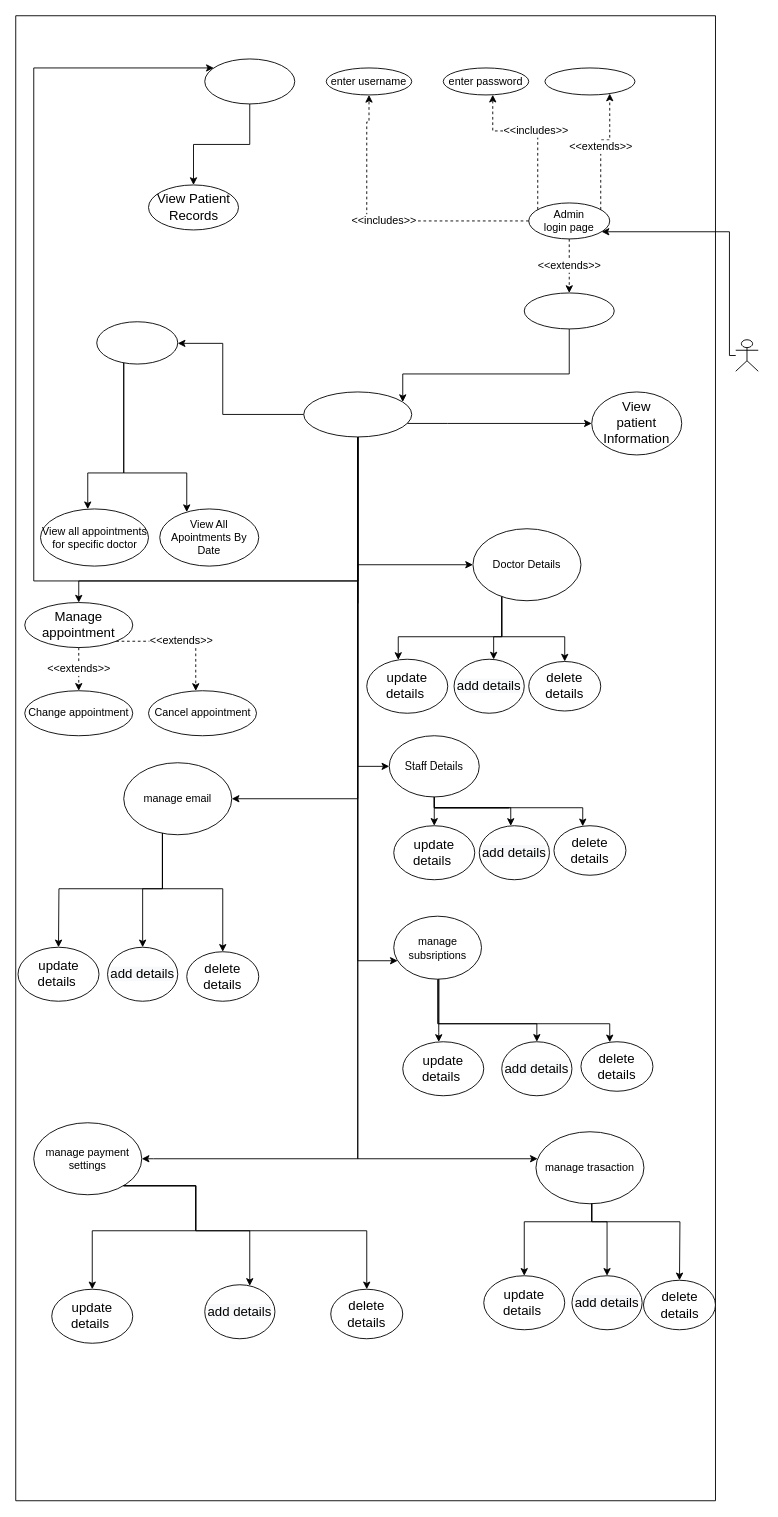
Some shapes in this 778 by 1517 pixel diagram are drawn without their labels. Each missing label, with the centre of its shape:
"Admin" goes at pixel 746 355.
"Admin Home page" goes at pixel 357 414.
"Login Fail" goes at pixel 589 81.
"Login successful" goes at pixel 568 310.
"Patient Records" goes at pixel 249 81.
"View All Apointments" goes at pixel 137 342.
